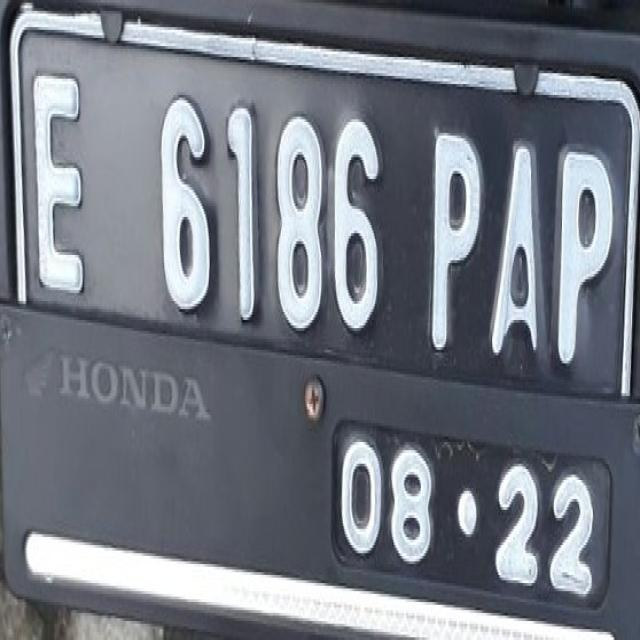plate: (8, 2, 638, 616)
